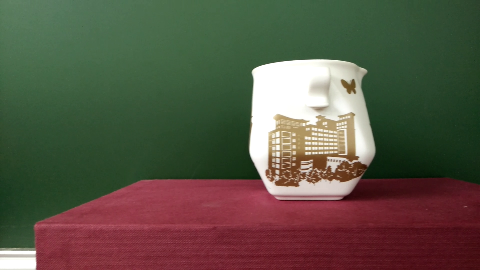butterfly: (329, 62, 365, 101)
lenwen: (277, 123, 353, 178)
